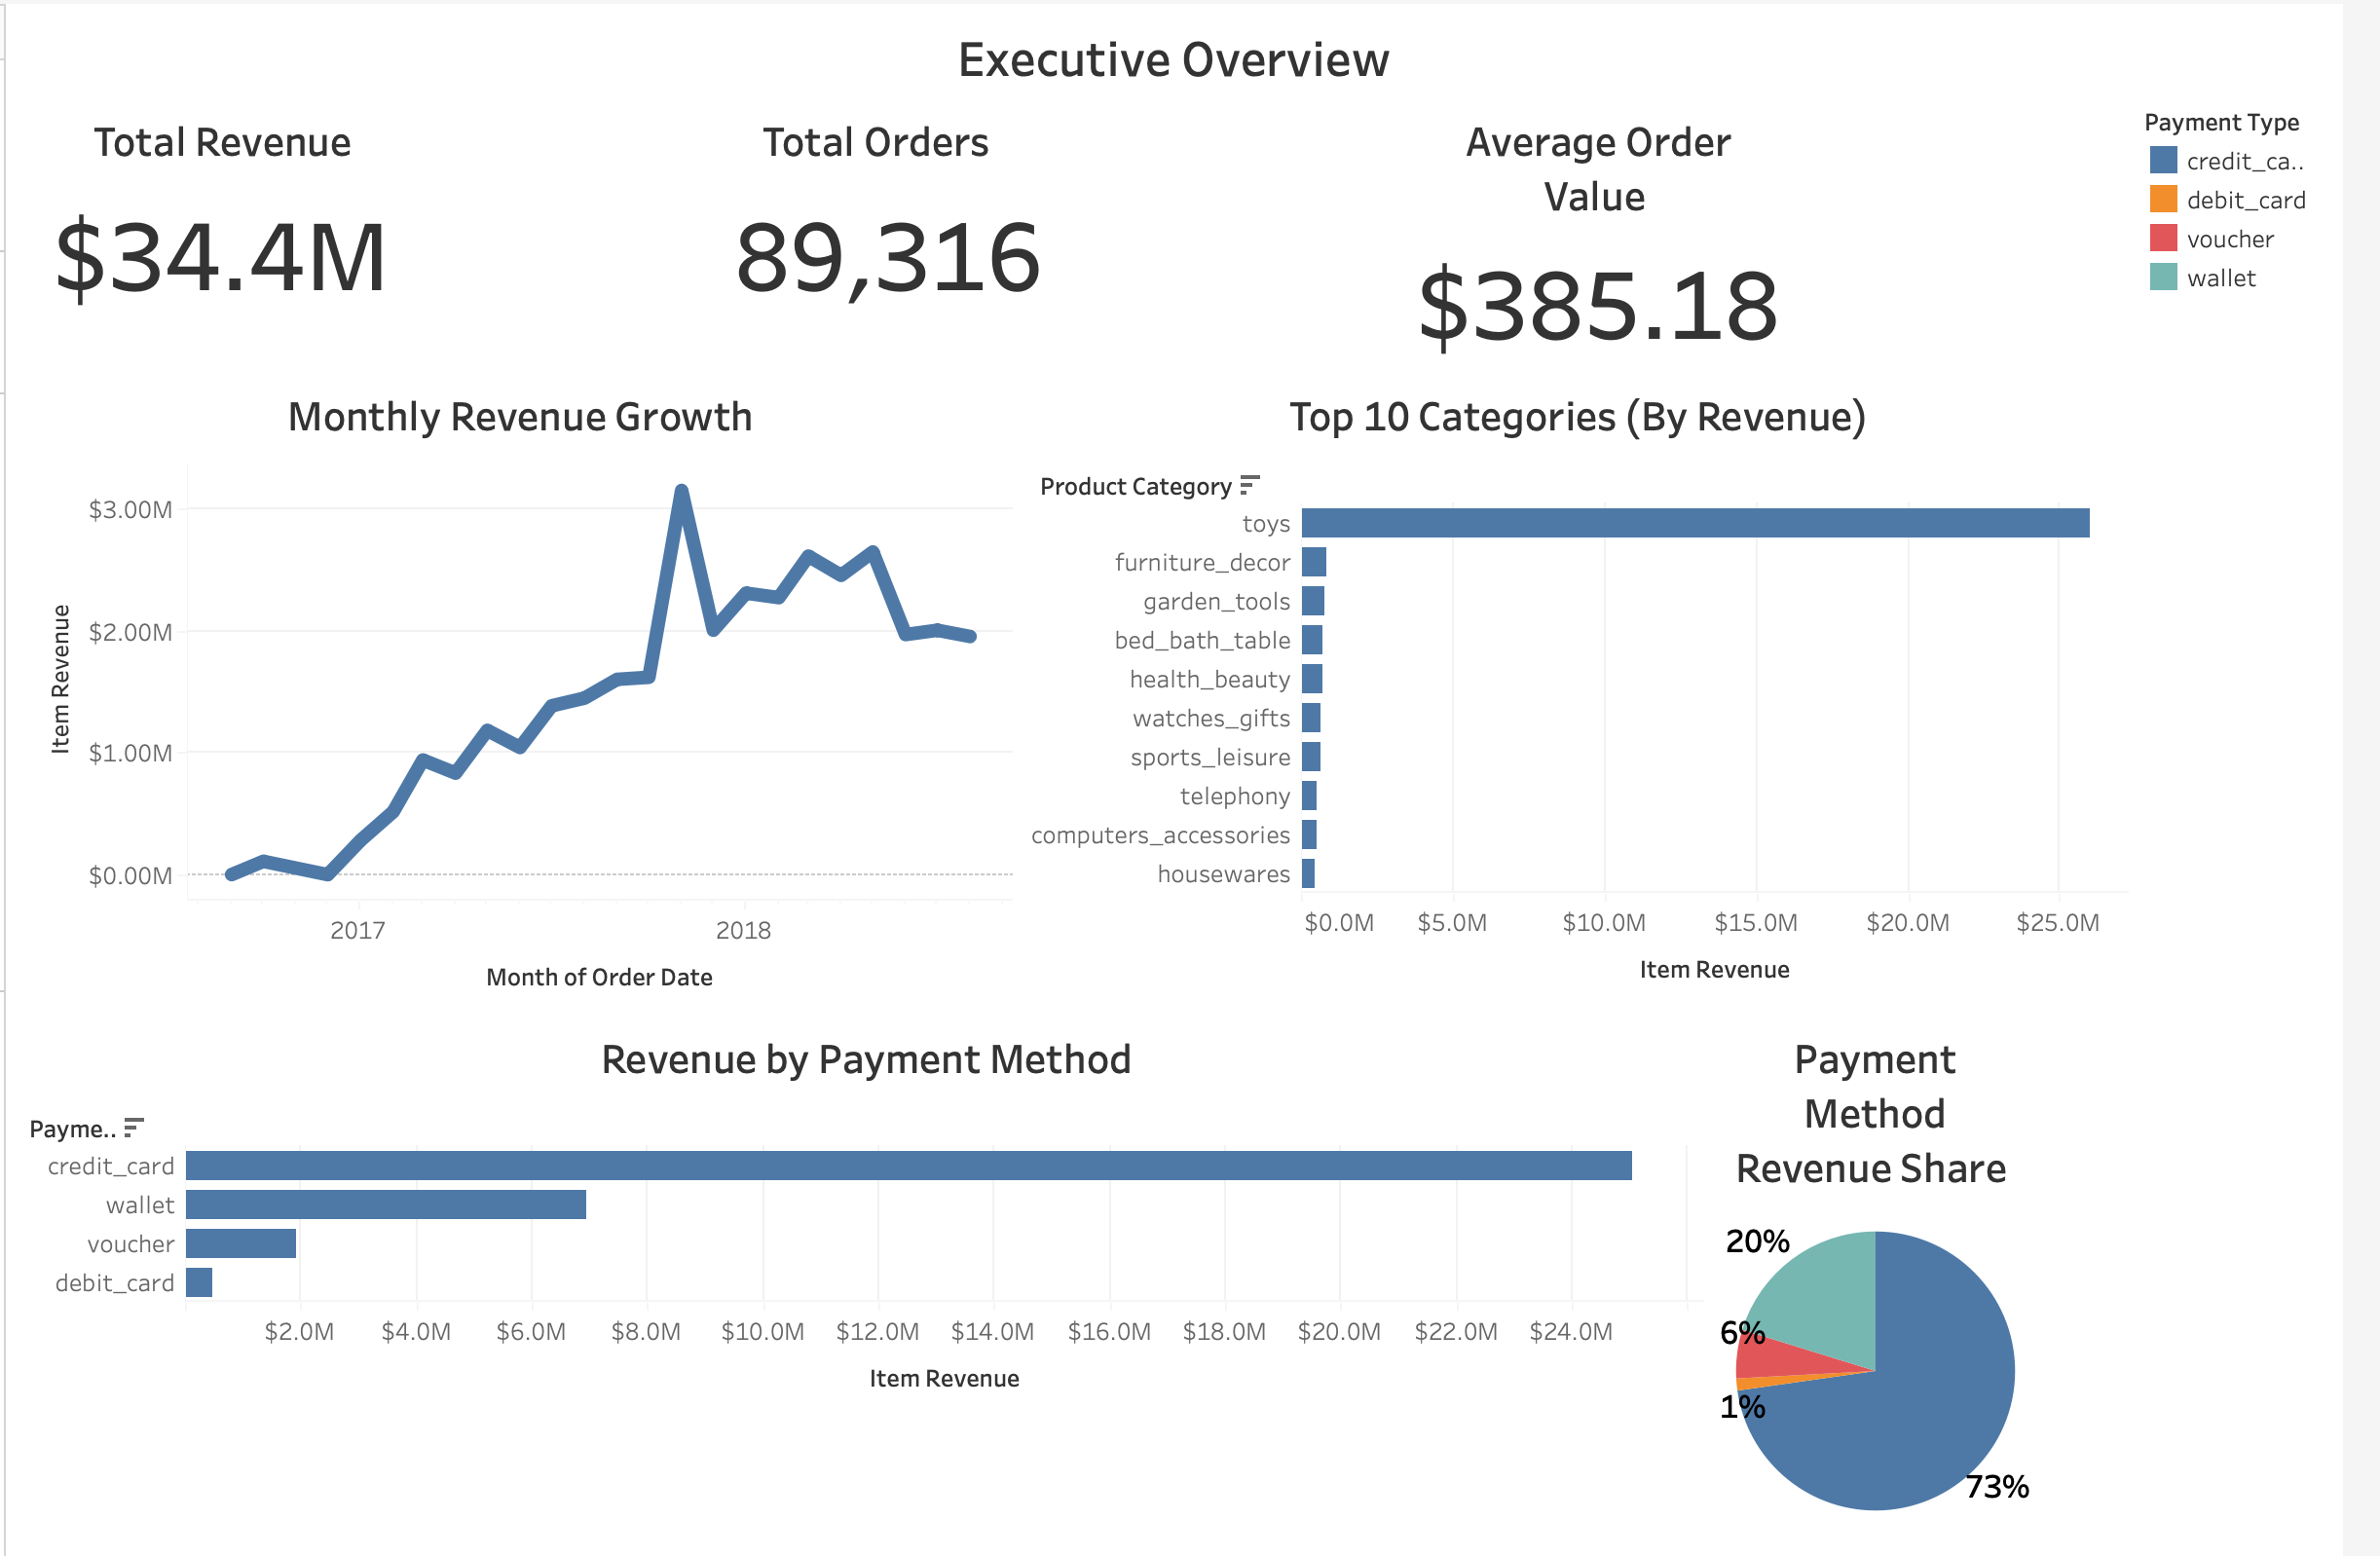

The page's visual inventory and layout, read from the dashboard file:
{"tool":"tableau","page":{"name":"Executive Overview ","canvas":[1200,800],"ordinal":0},"visuals":[{"type":"title","box":[8,8,1184,41]},{"type":"worksheet","title":"KPI Total Revenue","mark":"Text","box":[8,49,345.1,117]},{"type":"worksheet","title":"KPI Total Orders","mark":"Text","box":[353.1,49,358.8,141]},{"type":"worksheet","title":"KPI AOV","mark":"Text","box":[711.9,49,382.1,139]},{"type":"legend","title":"Revenue by Payment Method (2)","param":"[federated.14ehaqv1g1vf5211q6s6r0652hfy].[none:payment_type:nk]","box":[1094,49,98,106]},{"type":"worksheet","title":"Revenue Trend","mark":"Automatic","rows":["item_revenue"],"cols":["order_date"],"box":[8,190,513.5,330]},{"type":"worksheet","title":"Top 10 categories","mark":"Bar","rows":["product_category"],"cols":["item_revenue"],"box":[521.5,190,572.5,330]},{"type":"worksheet","title":"Revenue by Payment Method","mark":"Automatic","rows":["payment_type"],"cols":["item_revenue"],"box":[8,520,868,272]},{"type":"worksheet","title":"Revenue by Payment Method (2)","mark":"Pie","box":[876,520,218,272]}]}

Visuals, with their boxes in screenshot pixels (x1, y1, x2, y2), scaled from the page's 1200x800 canvas onto the 2380x1556 screenshot:
title: (x1=16, y1=16, x2=2364, y2=95)
"KPI Total Revenue" worksheet (Text marks): (x1=16, y1=95, x2=700, y2=323)
"KPI Total Orders" worksheet (Text marks): (x1=700, y1=95, x2=1412, y2=370)
"KPI AOV" worksheet (Text marks): (x1=1412, y1=95, x2=2170, y2=366)
"Revenue by Payment Method (2)" legend: (x1=2170, y1=95, x2=2364, y2=302)
"Revenue Trend" worksheet: (x1=16, y1=370, x2=1034, y2=1012)
"Top 10 categories" worksheet (Bar marks): (x1=1034, y1=370, x2=2170, y2=1012)
"Revenue by Payment Method" worksheet: (x1=16, y1=1012, x2=1737, y2=1540)
"Revenue by Payment Method (2)" worksheet (Pie marks): (x1=1737, y1=1012, x2=2170, y2=1540)
